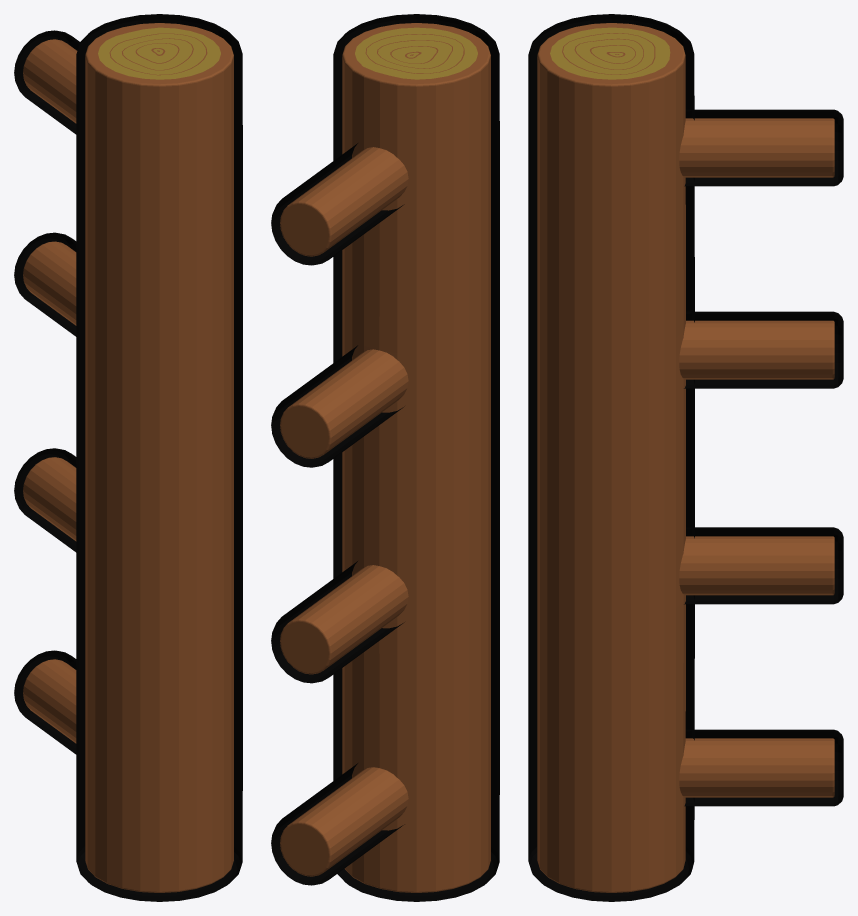
File: log_fence_large.glb
3 renders of one model, left to right at view 1: azimuth 30°, elevation 25°; view 2: azimuth 150°, elevation 25°; view 3: azimuth 270°, elevation 25°, orthographic.
Parts seen in each view (by area): view 1: log_fence_large; view 2: log_fence_large; view 3: log_fence_large.
Boxes of the visible parts, left/top/right/bottom form: log_fence_large: left=14, top=14, right=242, bottom=901; log_fence_large: left=271, top=14, right=499, bottom=901; log_fence_large: left=528, top=14, right=843, bottom=901.
Size of the model in its own units: 3.36 by 18.36 by 6.36.
